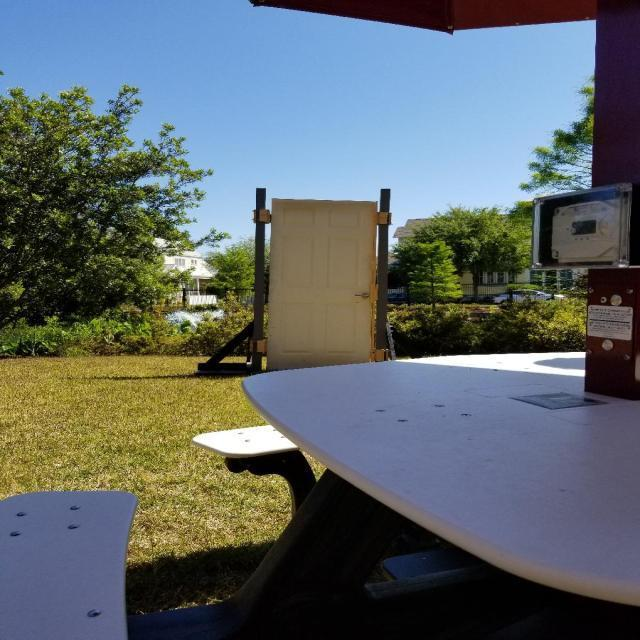door: (261, 195, 380, 378), (352, 292, 370, 302)
